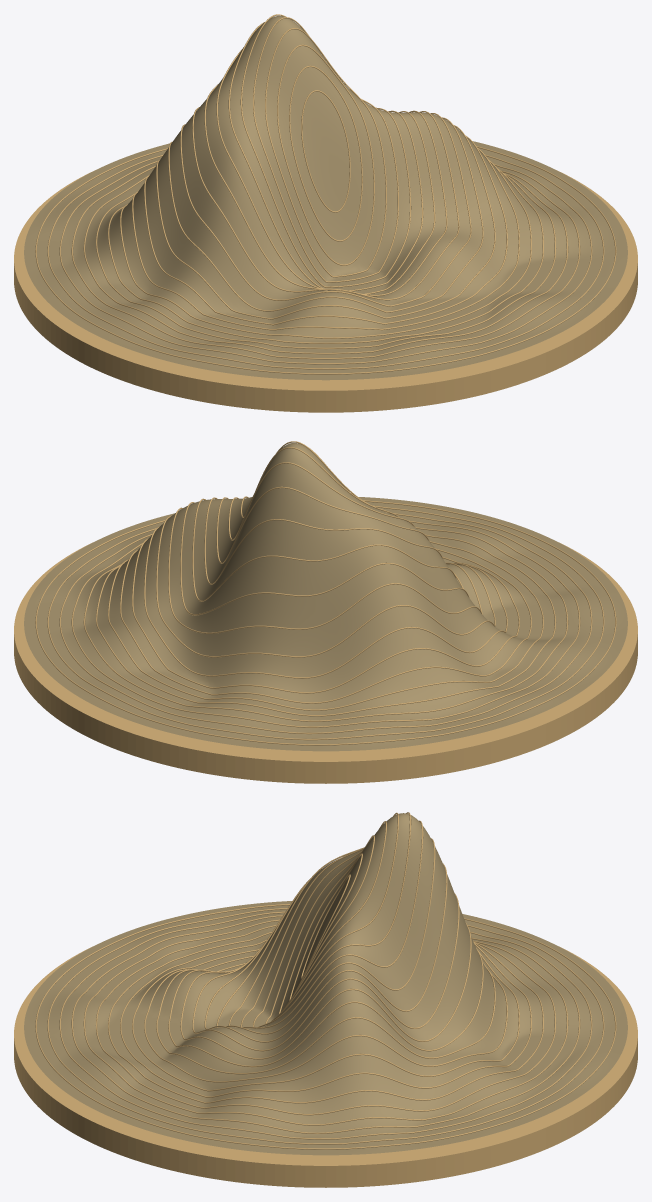
Rendered from mountain-relief.glb.
3 renders of one model, top to bottom at view 1: azimuth 30°, elevation 25°; view 2: azimuth 150°, elevation 25°; view 3: azimuth 270°, elevation 25°, orthographic.
Parts seen in each view (by area): view 1: MESH_Abstract_Kumaon_Relief, MESH_Medallion_Base, CURVE_Contour_2.88, CURVE_Contour_2.76, CURVE_Contour_2.64, CURVE_Contour_2.52, CURVE_Contour_2.4, CURVE_Contour_2.28, CURVE_Contour_2.16, CURVE_Contour_2.04, CURVE_Contour_1.92, CURVE_Contour_1.8 (+12 smaller); view 2: MESH_Abstract_Kumaon_Relief, MESH_Medallion_Base, CURVE_Contour_2.88, CURVE_Contour_2.76, CURVE_Contour_2.64, CURVE_Contour_2.52, CURVE_Contour_2.4, CURVE_Contour_2.28, CURVE_Contour_2.16, CURVE_Contour_2.04, CURVE_Contour_1.92, CURVE_Contour_1.8 (+7 smaller); view 3: MESH_Abstract_Kumaon_Relief, MESH_Medallion_Base, CURVE_Contour_2.88, CURVE_Contour_2.76, CURVE_Contour_2.64, CURVE_Contour_2.52, CURVE_Contour_2.4, CURVE_Contour_2.28, CURVE_Contour_2.16, CURVE_Contour_2.04, CURVE_Contour_1.92, CURVE_Contour_1.8 (+12 smaller).
Boxes of the visible parts, x1=… form: MESH_Abstract_Kumaon_Relief: x1=24, y1=16, x2=627, y2=380; MESH_Medallion_Base: x1=14, y1=170, x2=637, y2=412; CURVE_Contour_2.88: x1=35, y1=146, x2=616, y2=374; CURVE_Contour_2.76: x1=47, y1=154, x2=604, y2=369; CURVE_Contour_2.64: x1=59, y1=160, x2=592, y2=364; CURVE_Contour_2.52: x1=71, y1=166, x2=580, y2=359; CURVE_Contour_2.4: x1=83, y1=173, x2=568, y2=354; CURVE_Contour_2.28: x1=95, y1=173, x2=556, y2=349; CURVE_Contour_2.16: x1=108, y1=169, x2=543, y2=343; CURVE_Contour_2.04: x1=120, y1=159, x2=531, y2=338; CURVE_Contour_1.92: x1=132, y1=148, x2=519, y2=330; CURVE_Contour_1.8: x1=144, y1=135, x2=507, y2=325; MESH_Abstract_Kumaon_Relief: x1=24, y1=443, x2=627, y2=751; MESH_Medallion_Base: x1=14, y1=542, x2=637, y2=783; CURVE_Contour_2.88: x1=35, y1=500, x2=616, y2=745; CURVE_Contour_2.76: x1=47, y1=505, x2=604, y2=740; CURVE_Contour_2.64: x1=59, y1=511, x2=592, y2=734; CURVE_Contour_2.52: x1=71, y1=520, x2=580, y2=727; CURVE_Contour_2.4: x1=83, y1=527, x2=568, y2=721; CURVE_Contour_2.28: x1=96, y1=534, x2=556, y2=716; CURVE_Contour_2.16: x1=108, y1=541, x2=543, y2=710; CURVE_Contour_2.04: x1=120, y1=548, x2=531, y2=703; CURVE_Contour_1.92: x1=132, y1=538, x2=519, y2=693; CURVE_Contour_1.8: x1=144, y1=526, x2=507, y2=678; MESH_Abstract_Kumaon_Relief: x1=24, y1=813, x2=627, y2=1155; MESH_Medallion_Base: x1=14, y1=946, x2=637, y2=1187; CURVE_Contour_2.88: x1=35, y1=904, x2=616, y2=1149; CURVE_Contour_2.76: x1=47, y1=908, x2=604, y2=1144; CURVE_Contour_2.64: x1=59, y1=911, x2=592, y2=1139; CURVE_Contour_2.52: x1=71, y1=915, x2=580, y2=1133; CURVE_Contour_2.4: x1=83, y1=919, x2=568, y2=1125; CURVE_Contour_2.28: x1=95, y1=925, x2=555, y2=1115; CURVE_Contour_2.16: x1=108, y1=932, x2=543, y2=1103; CURVE_Contour_2.04: x1=120, y1=939, x2=531, y2=1097; CURVE_Contour_1.92: x1=132, y1=948, x2=519, y2=1091; CURVE_Contour_1.8: x1=144, y1=955, x2=507, y2=1082.
Bounding box in the file's own units: 6.2 × 2.61 × 6.2.
